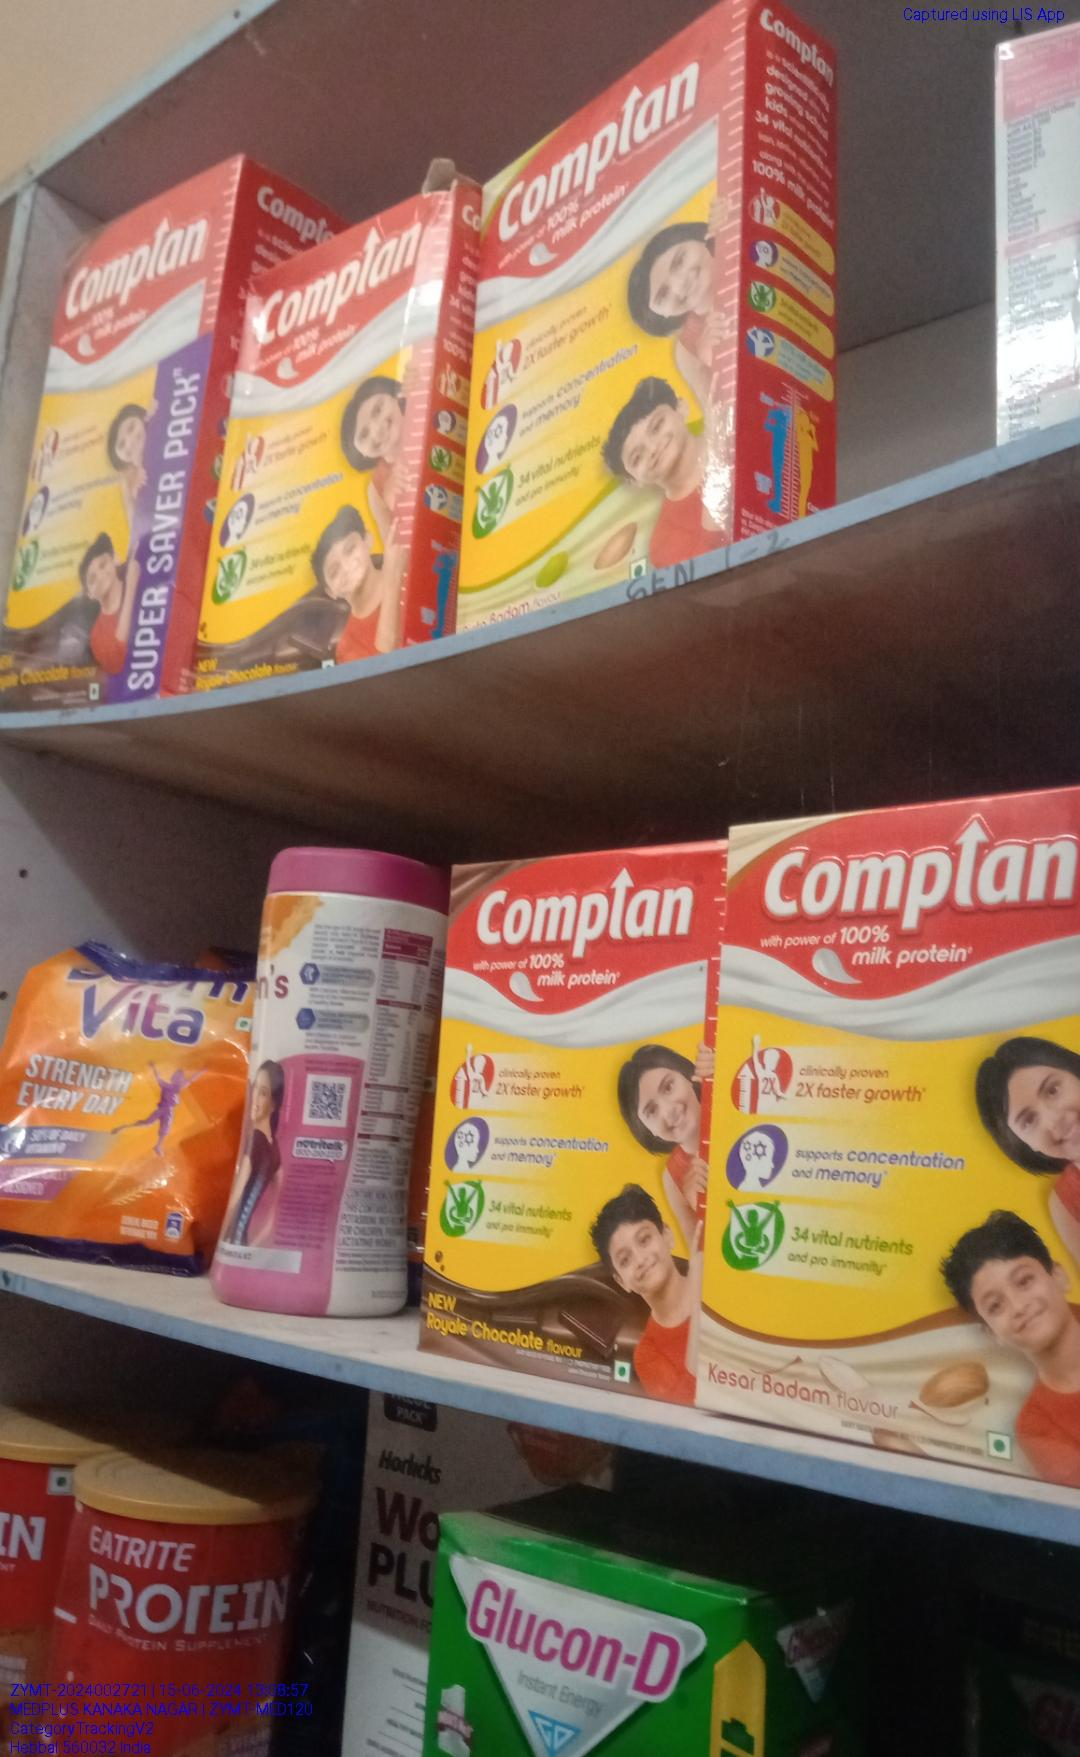BOURN_VITA_500_G_POUCH: (0, 939, 225, 1261)
COMPLAN_CHOCOLATE_1_KG_PACK: (4, 173, 217, 708)
COMPLAN_CHOCOLATE_500_GMS_PACK: (442, 853, 690, 1401), (223, 222, 431, 673)
COMPLAN_KESAR_BADAM_500_GMS_PACK: (706, 792, 1080, 1471)
COMPLAN_PISTA_BADAM_500_GMS_PACK: (453, 16, 751, 615)
